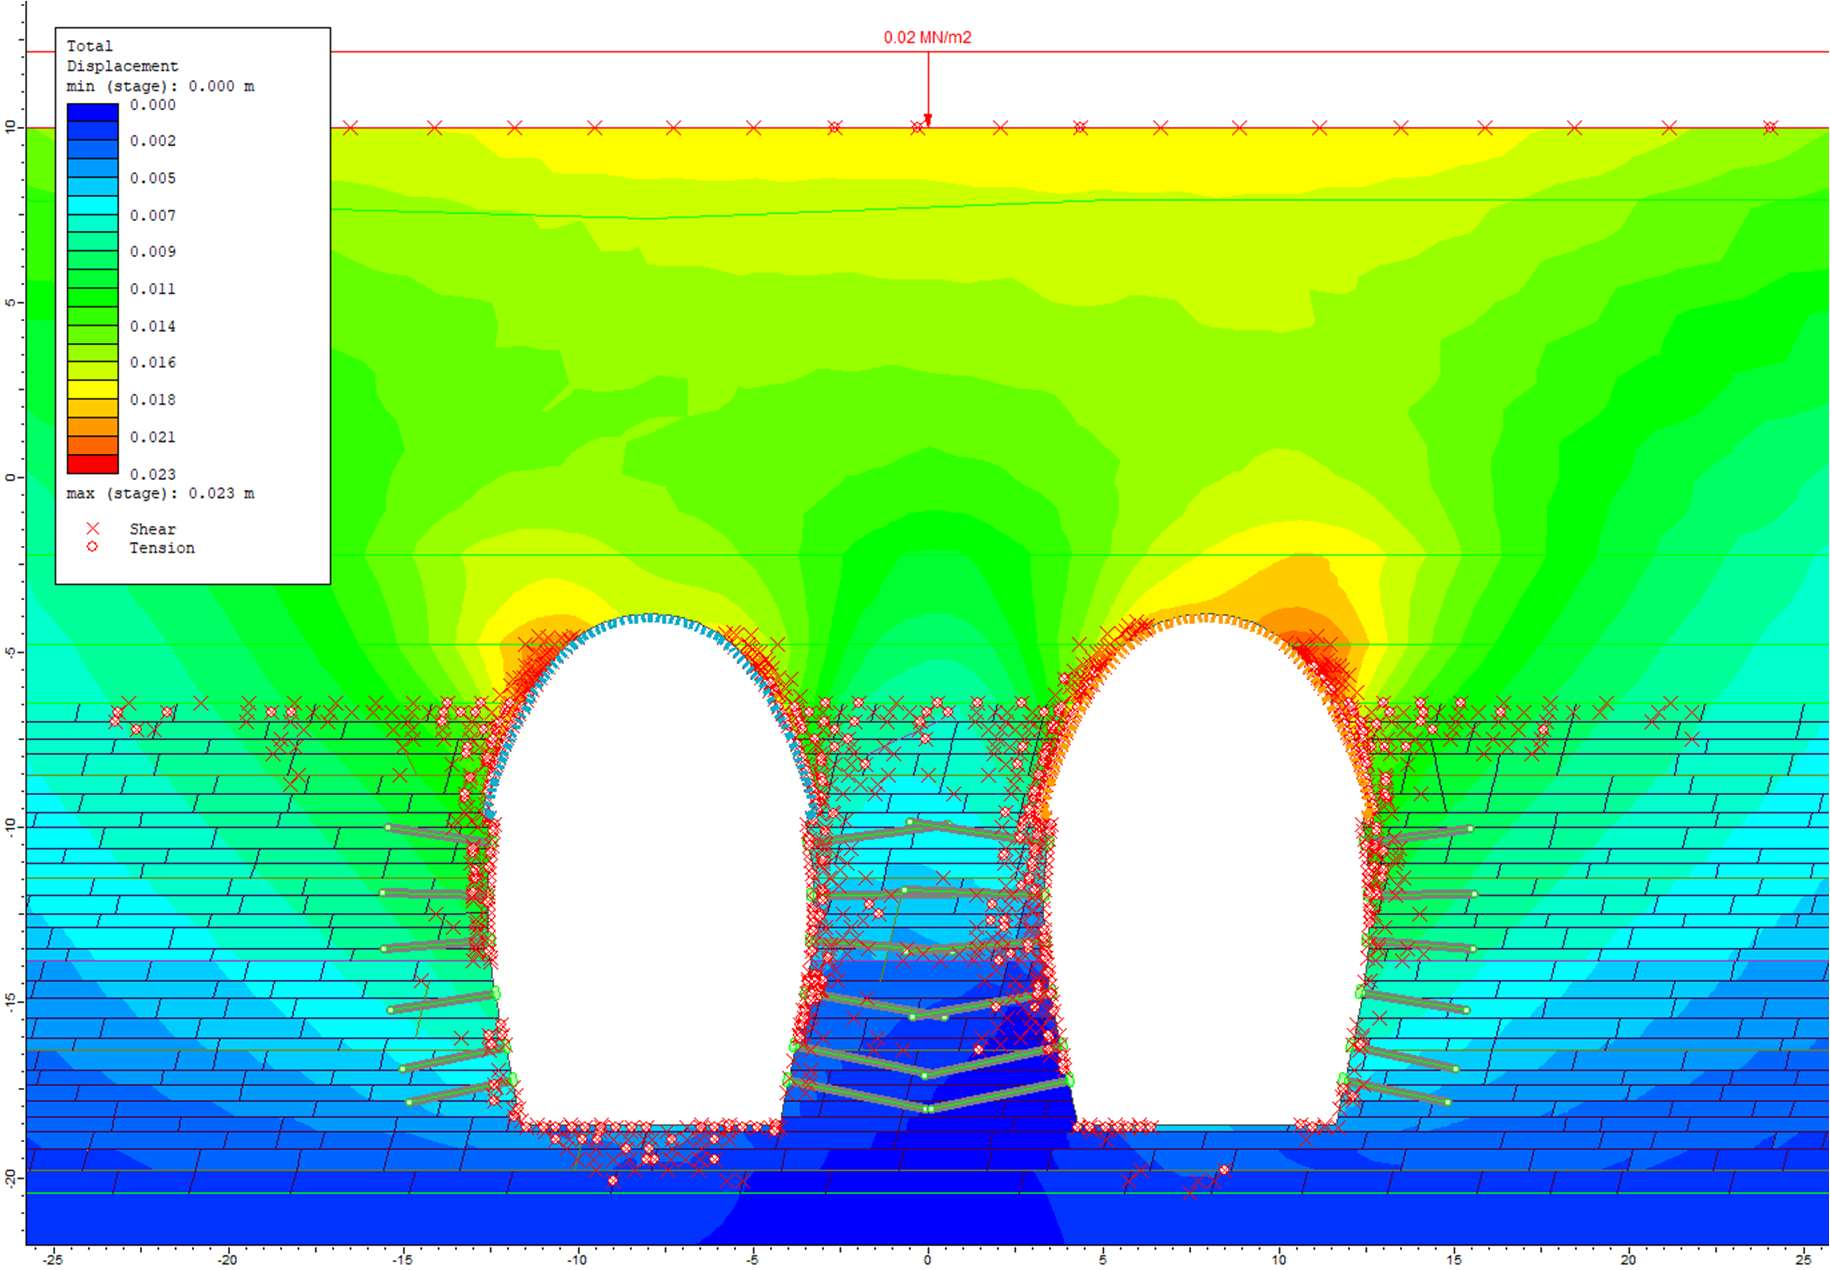crown: (617, 580, 697, 606), (1160, 586, 1250, 604)
label: (56, 29, 331, 590)
tunnel-opening: (1044, 609, 1375, 1123), (494, 612, 815, 1127)
